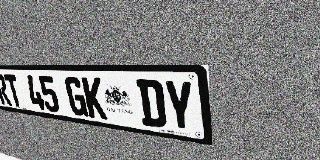4: (24, 75, 46, 111)
5: (38, 76, 61, 113)
D: (136, 79, 167, 129)
G: (64, 77, 89, 117)
K: (81, 77, 108, 120)
R: (0, 74, 12, 106)
T: (3, 74, 24, 108)
Y: (163, 80, 196, 133)
